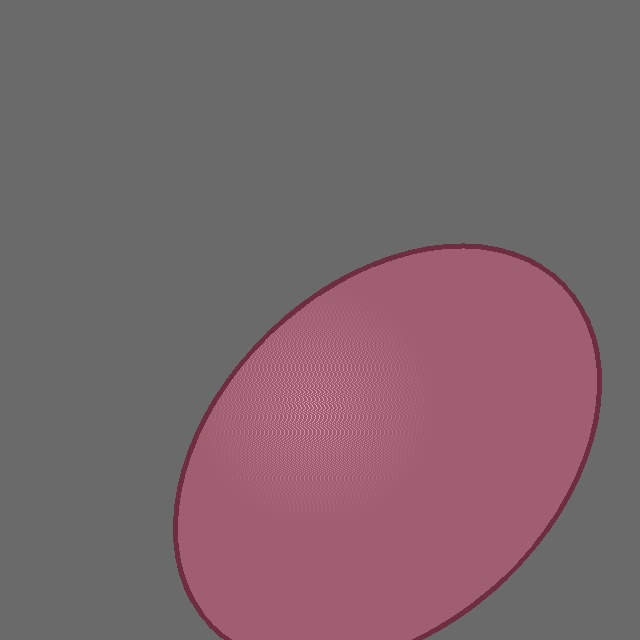lens: (175, 246, 599, 640)
